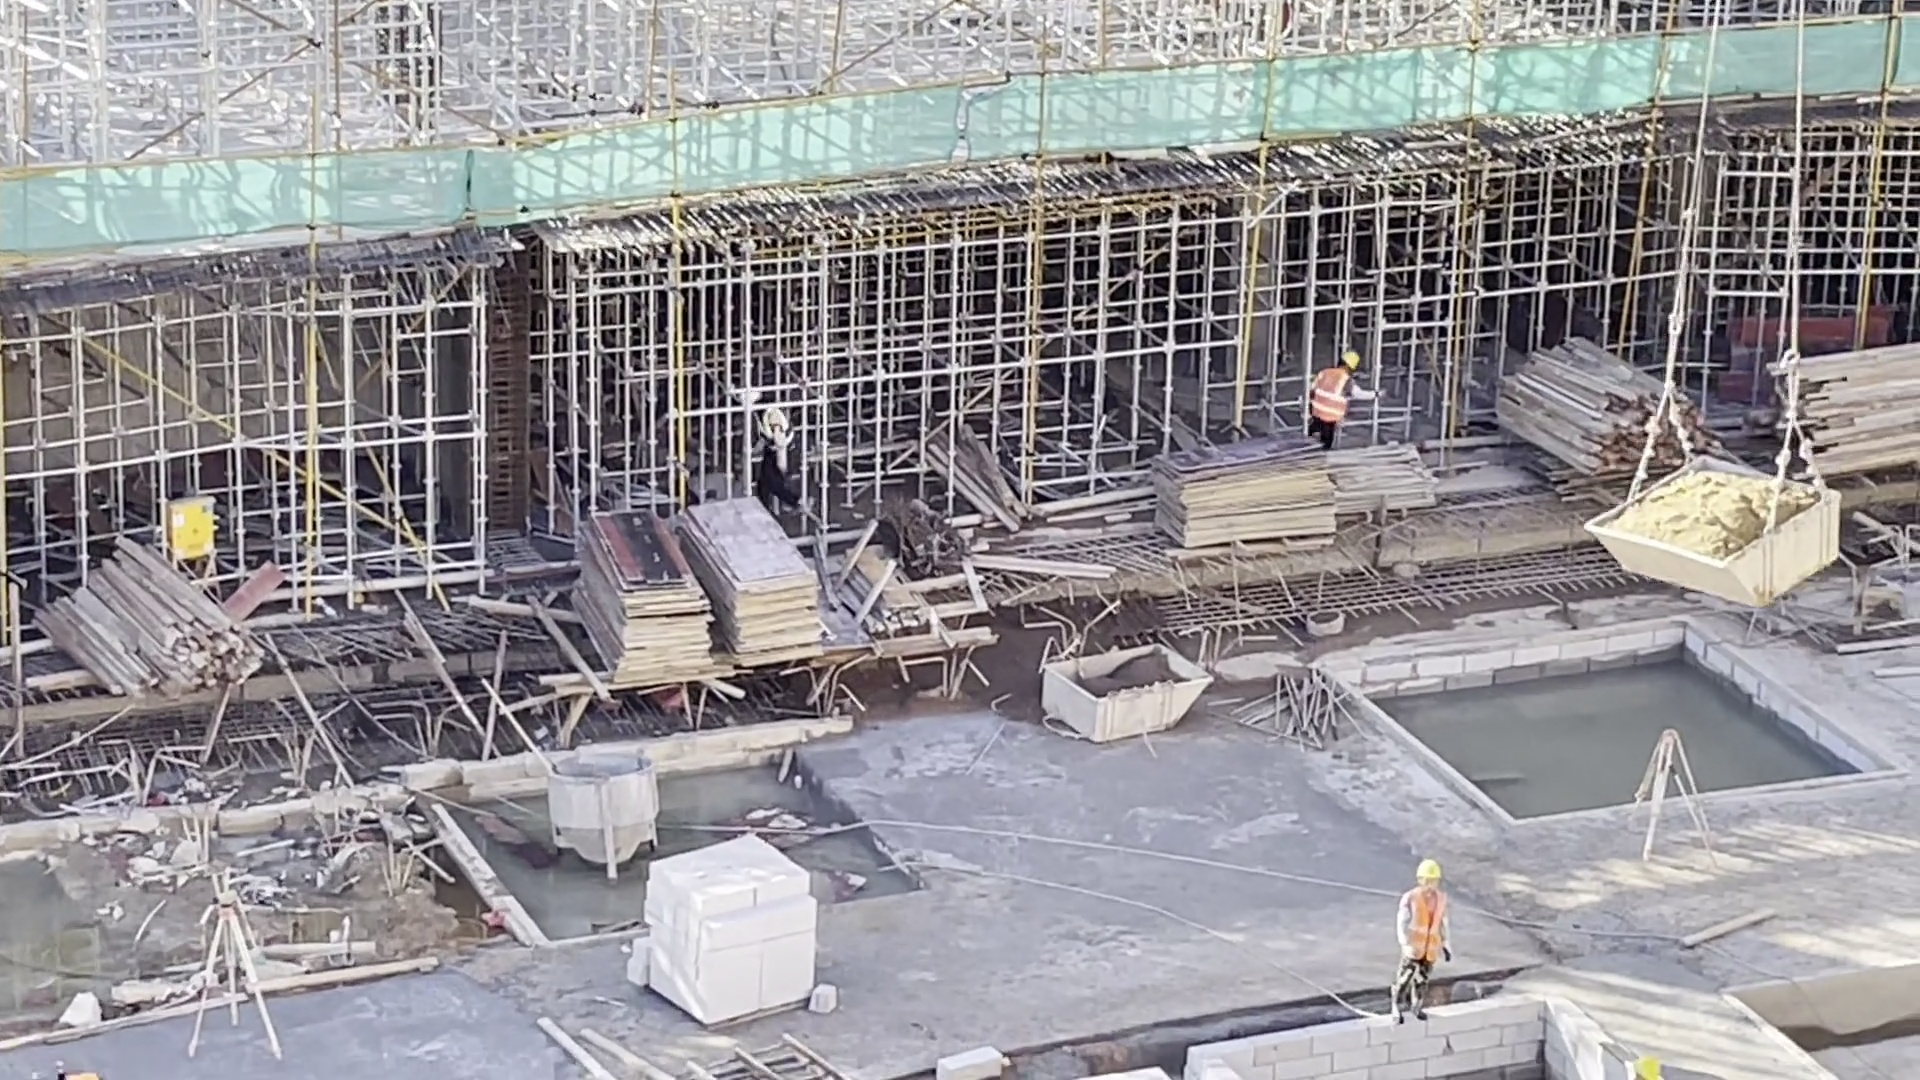board: (558, 504, 717, 687), (681, 493, 830, 672), (1151, 427, 1343, 558)
brick: (631, 838, 838, 1022)
ebox: (166, 489, 218, 563)
helmet: (1411, 860, 1447, 889), (1630, 1050, 1661, 1080), (1339, 351, 1359, 369)
hopper: (1584, 450, 1840, 606), (1036, 638, 1224, 746), (545, 745, 665, 891)
person: (1389, 856, 1459, 1024), (1308, 349, 1375, 450), (754, 409, 793, 504)
vest: (1399, 886, 1444, 965), (1312, 369, 1348, 426), (757, 409, 794, 454)
wood: (34, 535, 271, 704), (1499, 335, 1699, 469), (1778, 342, 1920, 478)
